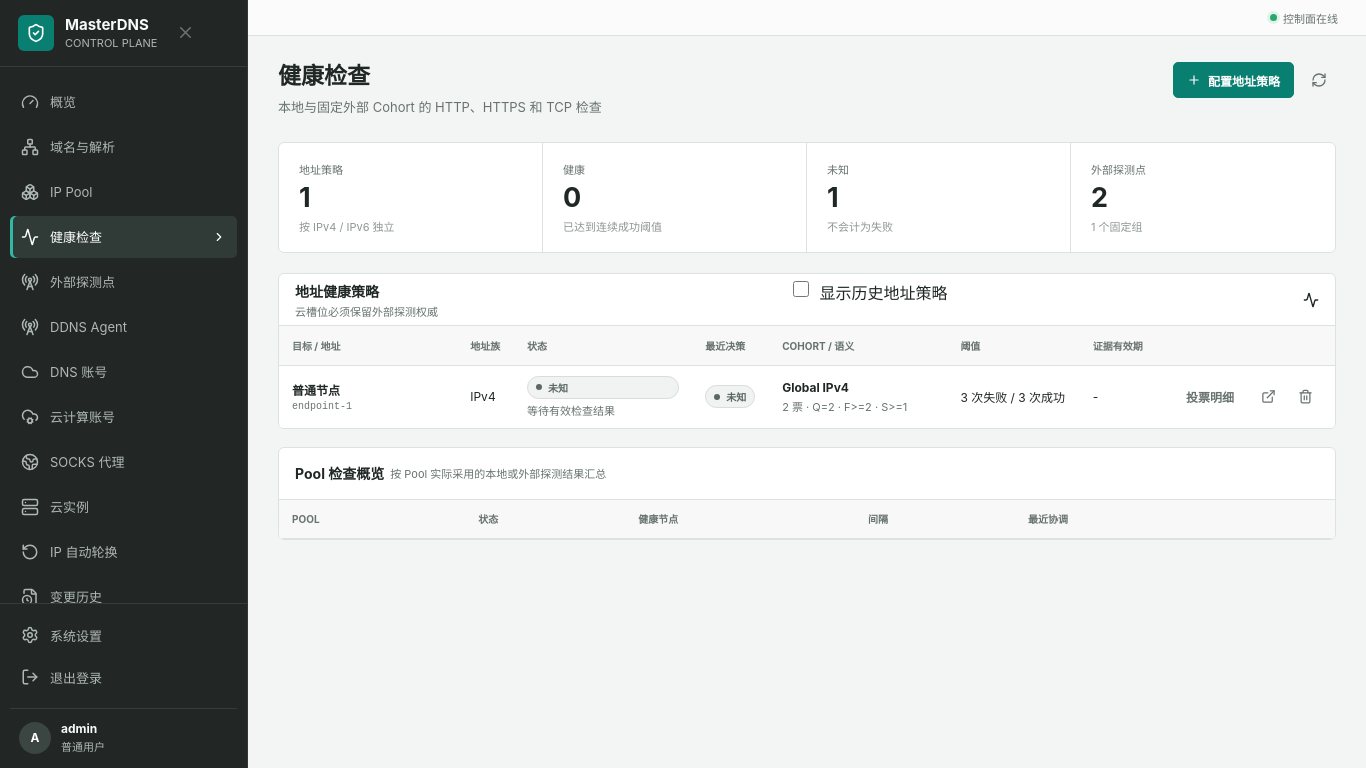
it: confirms once with the displayed revision and removes the policy from the list
Click the button named "删除策略".
click(1305, 396)  # box [1288, 380, 1322, 414]
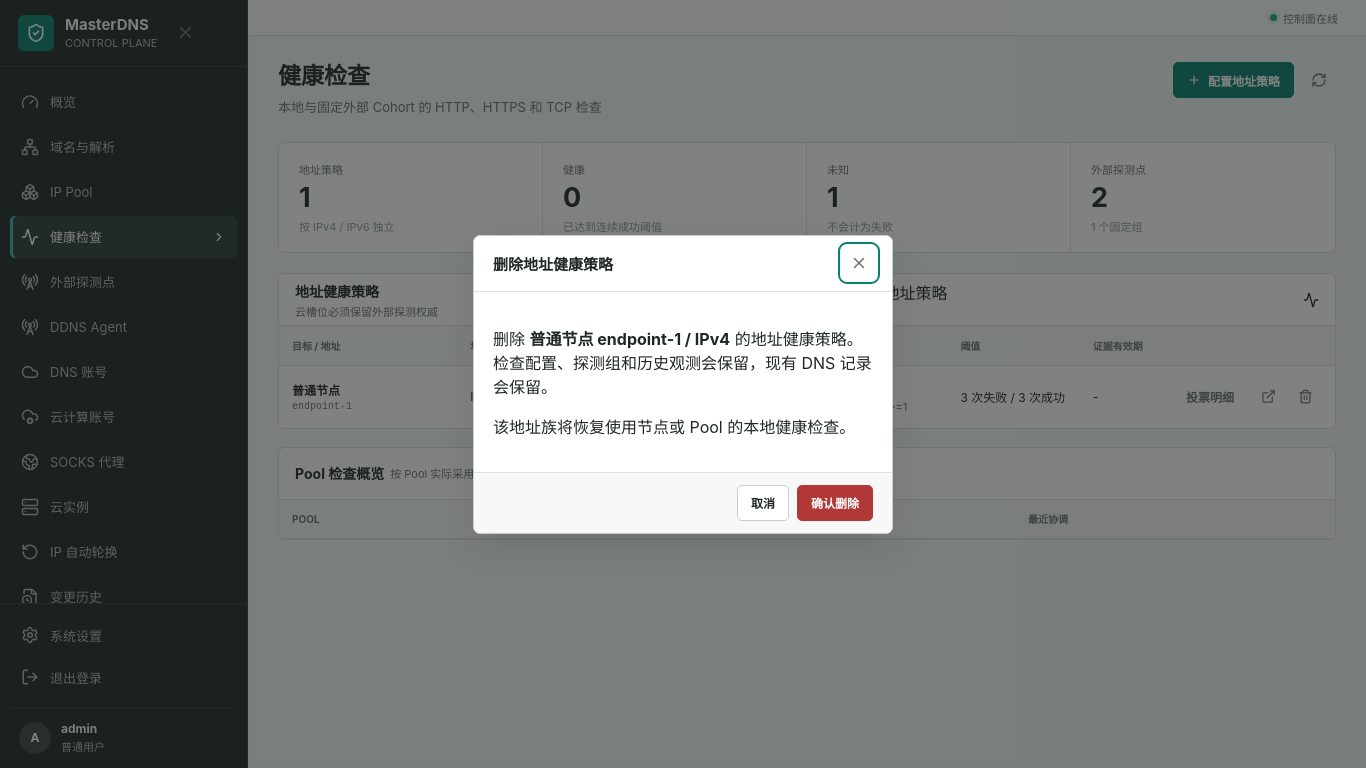
Click the button "确认删除".
click(835, 502)  # box [797, 484, 873, 520]
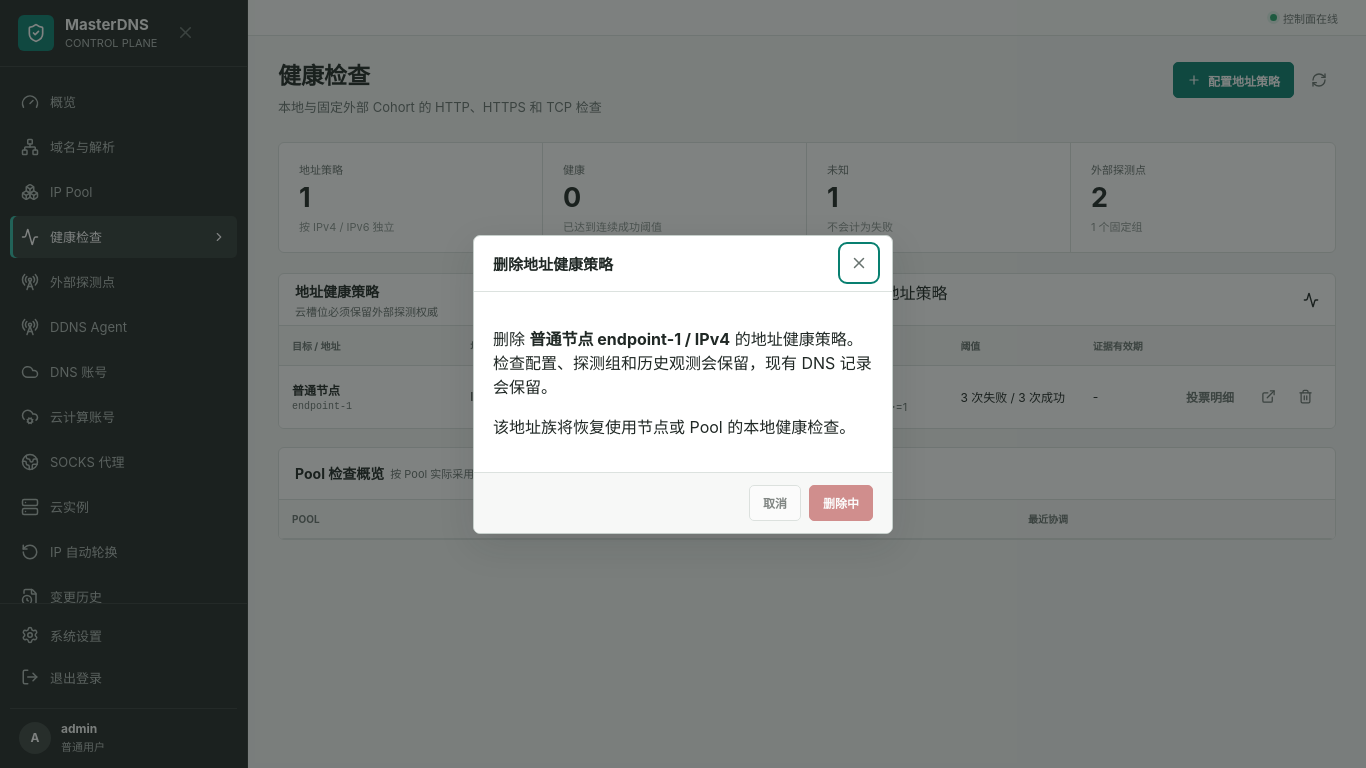
Check: the button "删除中" is disabled
Click the button "删除中".
click(841, 502)  # box [809, 484, 873, 520]
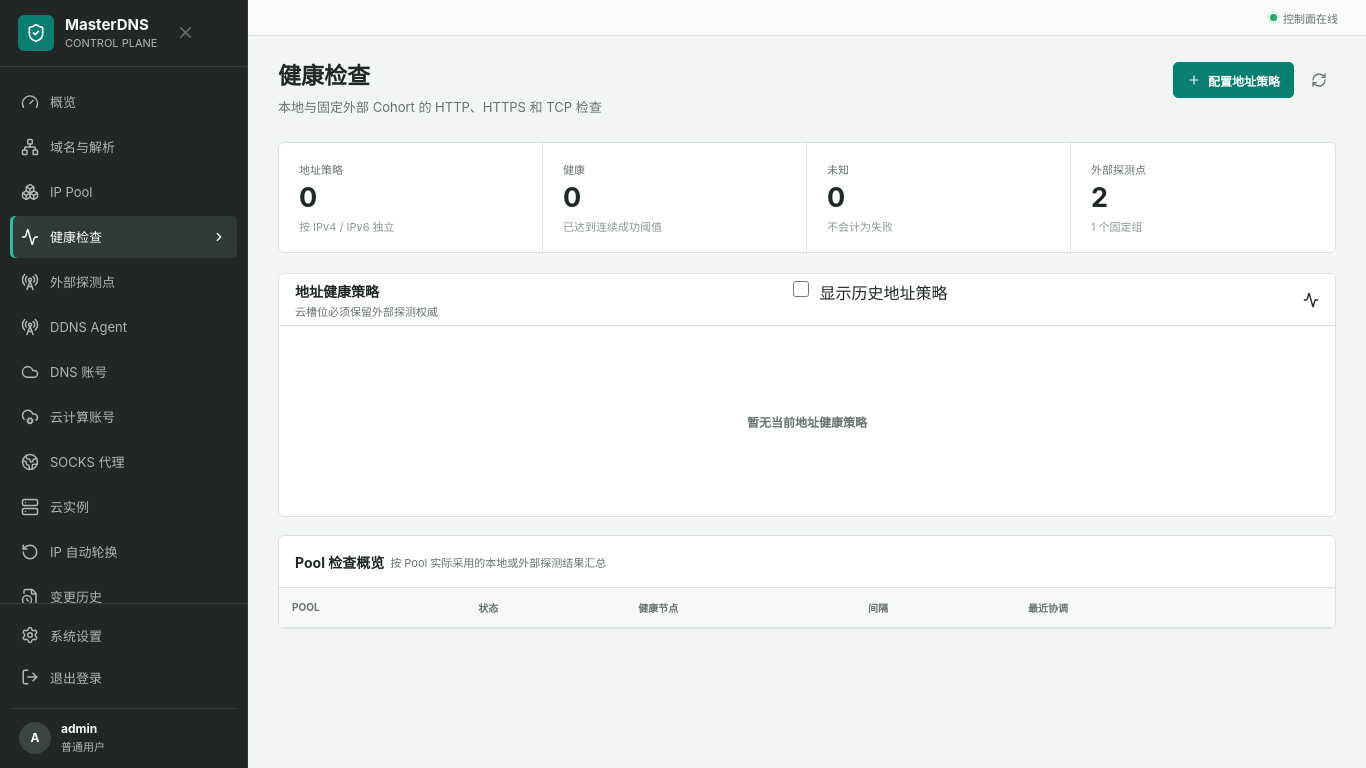
Check: the dialog is gone
Check: the button named "删除策略" is gone
Check: the text "暂无当前地址健康策略" is shown, box [747, 412, 867, 430]
